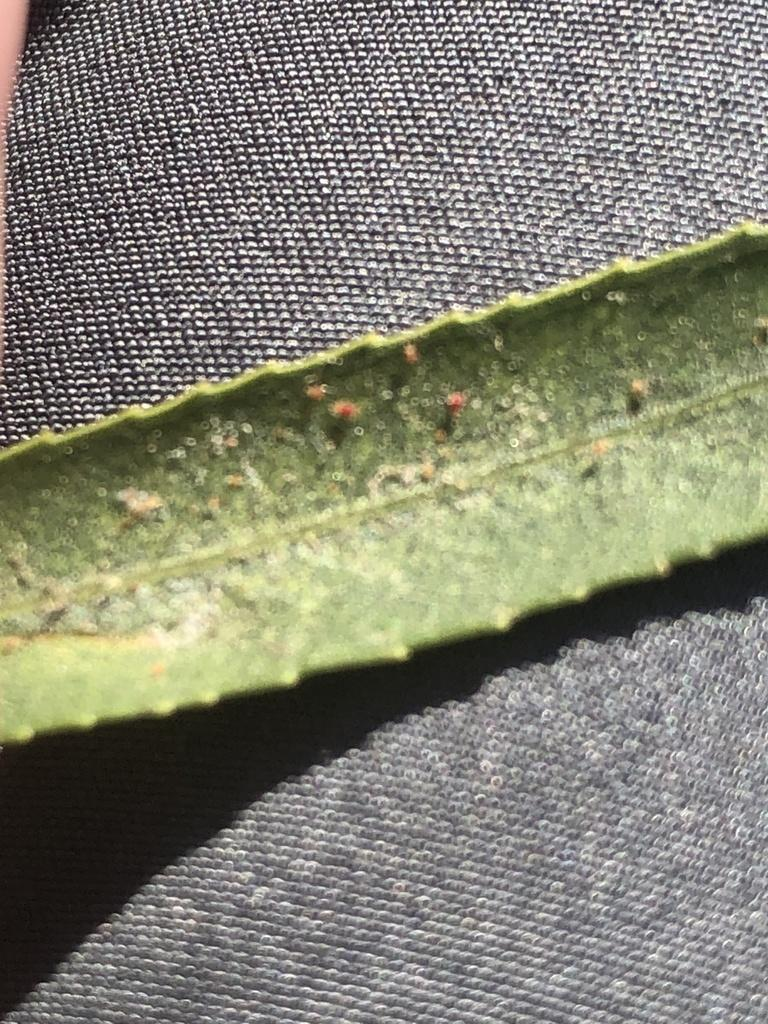tiny_pests: (298, 377, 365, 436), (435, 372, 473, 421)
